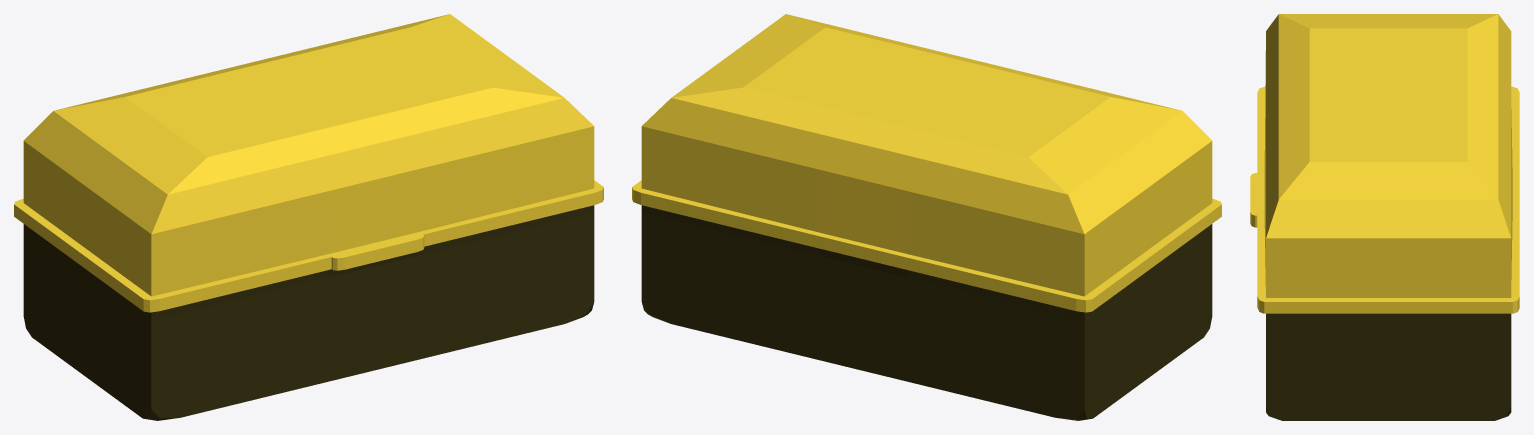
File: organizer tool box.fbx
The picture shows the model from 3 angles, left to right: view 1: azimuth 30°, elevation 25°; view 2: azimuth 150°, elevation 25°; view 3: azimuth 270°, elevation 25°; orthographic projection. The views are drawn at different scales.
Visible parts, largest first — view 1: organizer box deco; view 2: organizer box deco; view 3: organizer box deco.
Part boxes in pixels (<box>): organizer box deco: <box>14,14,603,420</box>; organizer box deco: <box>632,14,1221,420</box>; organizer box deco: <box>1250,14,1519,420</box>.
Bounding box in the file's own units: 54.96 × 29.09 × 26.45.
